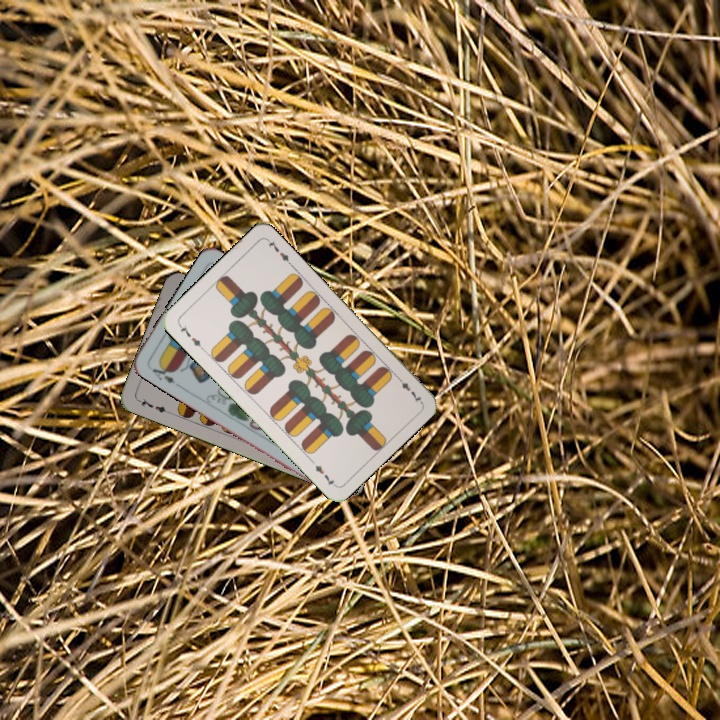E7: (174, 320, 206, 353), (392, 372, 424, 405), (134, 394, 172, 416)
EA: (148, 359, 178, 386)
